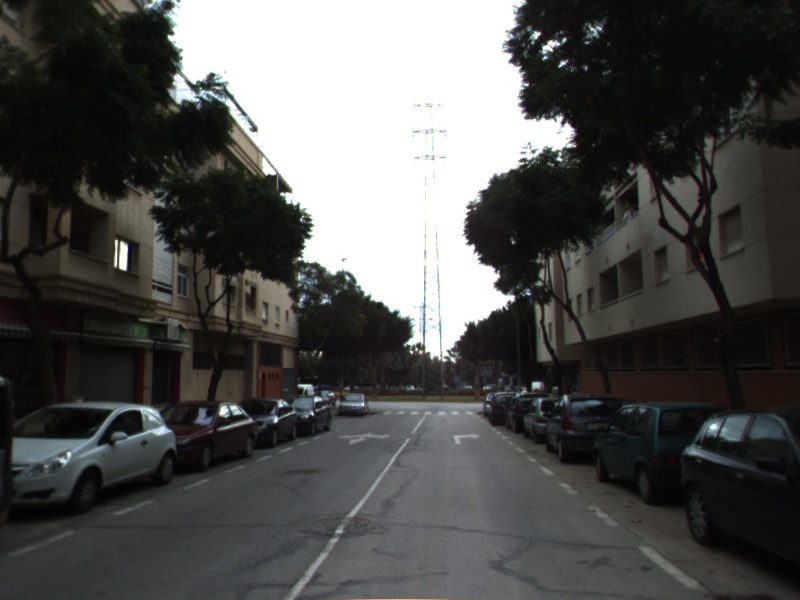RIGHT: (451, 430, 483, 446)
